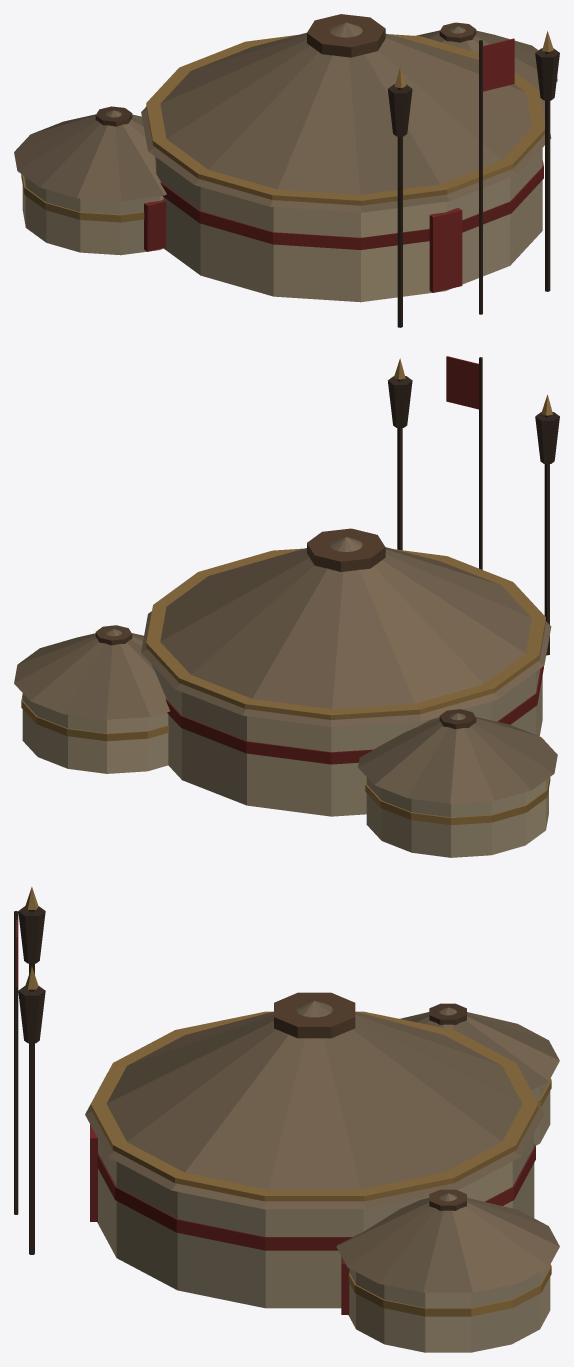
File: steppe_seat.glb
3 renders of one model, top to bottom at view 1: azimuth 30°, elevation 25°; view 2: azimuth 150°, elevation 25°; view 3: azimuth 270°, elevation 25°, orthographic. The views are drawn at different scales.
Visible parts, largest first — view 1: steppe_seat; view 2: steppe_seat; view 3: steppe_seat.
Boxes of the visible parts, x1,y1,x2,y2 form: steppe_seat: [14, 14, 559, 327]; steppe_seat: [14, 356, 559, 857]; steppe_seat: [14, 887, 559, 1352].
Bounding box in the file's own units: 16.76 × 8.6 × 13.91.
2 materials, 2 textured.
